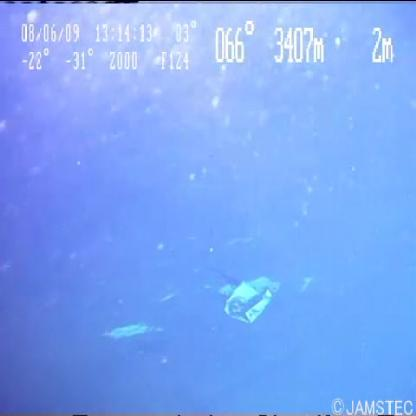Rác: (212, 258, 296, 332)
